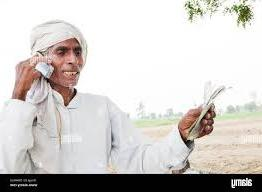Human: (4, 23, 205, 188)
